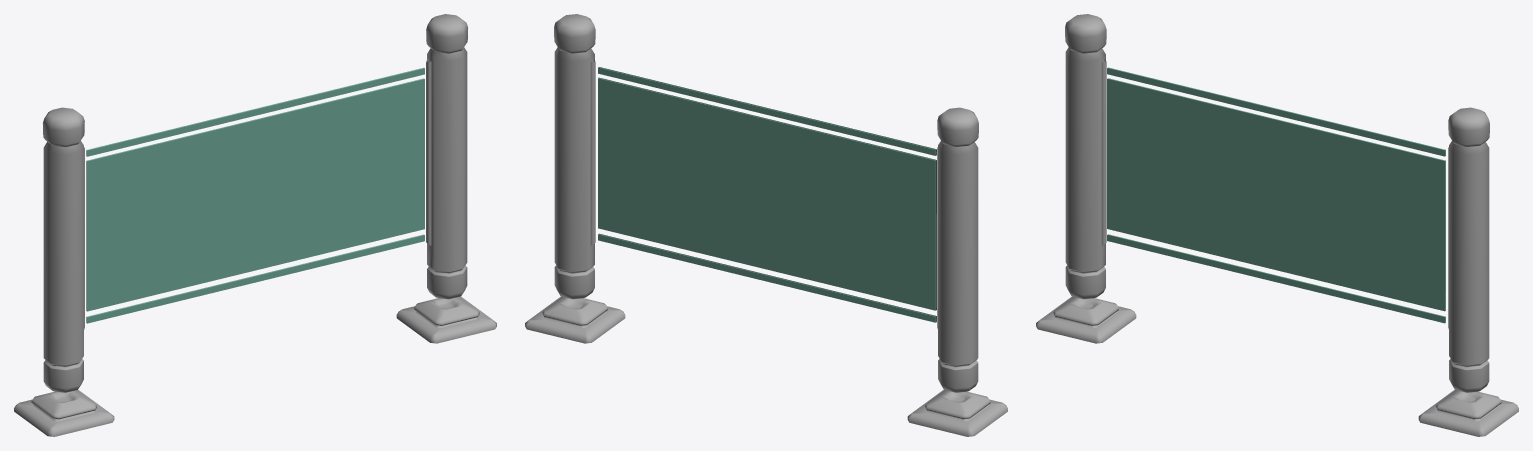
Rendered from barrière_linéaire_shader_low.fbx.
The picture shows the model from 3 angles, left to right: view 1: azimuth 30°, elevation 25°; view 2: azimuth 150°, elevation 25°; view 3: azimuth 330°, elevation 25°; orthographic projection.
Parts seen in each view (by area): view 1: polySurface11, polySurface5; view 2: polySurface11, polySurface5; view 3: polySurface11, polySurface5.
Boxes of the visible parts, box(x1,y1,x2,y2) form: polySurface11: box(86, 67, 424, 323); polySurface5: box(14, 14, 496, 436); polySurface11: box(598, 67, 936, 322); polySurface5: box(525, 14, 1007, 436); polySurface11: box(1107, 67, 1445, 323); polySurface5: box(1036, 14, 1518, 436).
Size of the model in its own units: 729 by 469 by 108.
